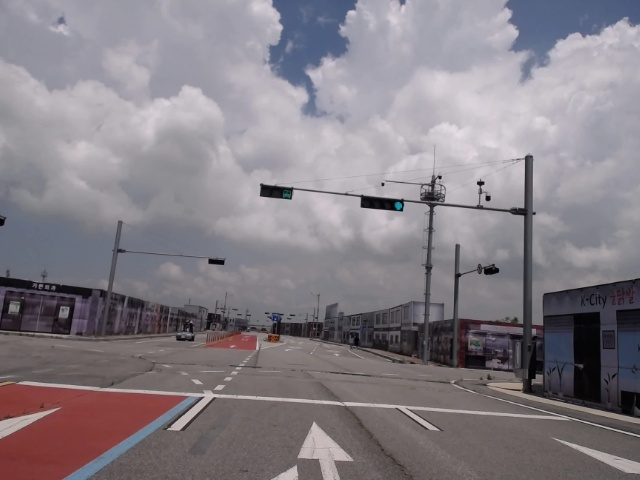straight_green_4: (361, 195, 404, 212)
